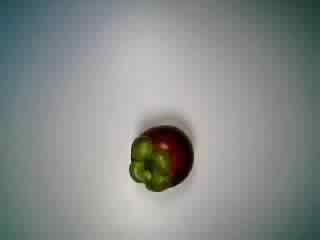mangosteen: (121, 121, 197, 192)
